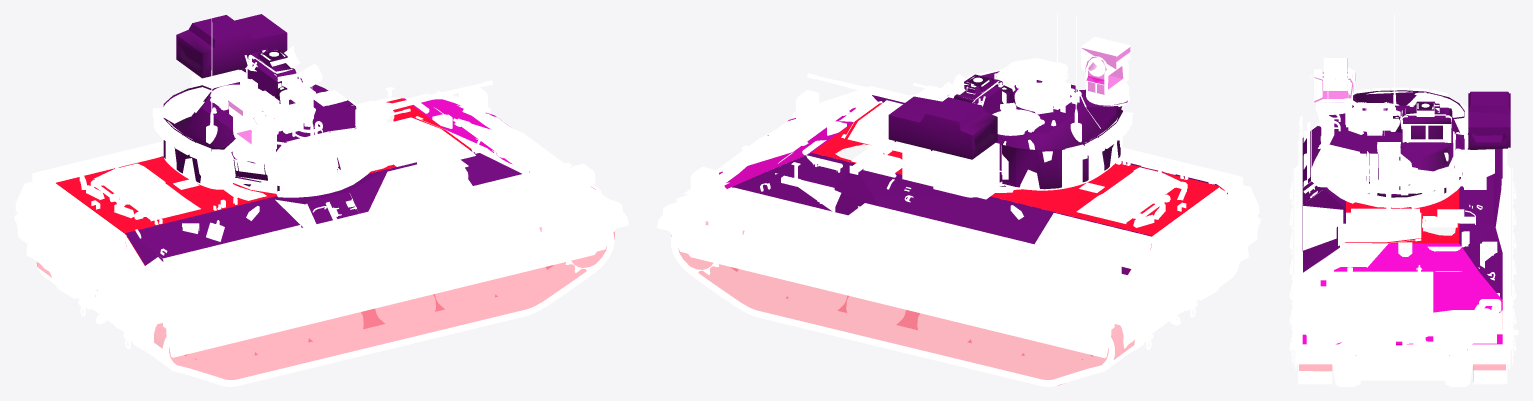
The picture shows the model from 3 angles, left to right: view 1: azimuth 30°, elevation 25°; view 2: azimuth 150°, elevation 25°; view 3: azimuth 270°, elevation 25°; orthographic projection. The views are drawn at different scales.
Visible parts, largest first — view 1: 44_1, 44_3, BFV_Righttrack_COL_100, BFV_turret_col_106, BFV_COL, 44_2, BFV_COL_2, 44_5, 44_4, BFV_COL_1; view 2: 44_1, BFV_Lefttrack_COL_97, 44_3, BFV_turret_col_106, BFV_COL, 44, BFV_COL_2, 44_5, BFV_COL_1, BFV_CmdrScope_Col_103, 44_4; view 3: 44_1, 44_3, BFV_turret_col_106, BFV_COL, BFV_COL_1, 44_5, 44_4, BFV_COL_2, 44, 44_2, BFV_CmdrScope_Col_103, BFV_Righttrack_COL_100 (+1 smaller).
Part boxes in pixels (left/top/right/bottom): 44_1: left=14, top=87, right=628, bottom=378; 44_3: left=152, top=16, right=397, bottom=193; BFV_Righttrack_COL_100: left=154, top=227, right=614, bottom=379; BFV_turret_col_106: left=163, top=14, right=356, bottom=191; BFV_COL: left=125, top=149, right=521, bottom=265; 44_2: left=142, top=230, right=614, bottom=386; BFV_COL_2: left=56, top=98, right=470, bottom=290; 44_5: left=228, top=90, right=279, bottom=163; 44_4: left=315, top=80, right=492, bottom=121; BFV_COL_1: left=403, top=98, right=594, bottom=188; 44_1: left=657, top=85, right=1260, bottom=378; BFV_Lefttrack_COL_97: left=671, top=221, right=1134, bottom=385; 44_3: left=898, top=14, right=1133, bottom=199; BFV_turret_col_106: left=888, top=71, right=1127, bottom=189; BFV_COL: left=732, top=95, right=1218, bottom=274; 44: left=671, top=224, right=1134, bottom=386; BFV_COL_2: left=812, top=103, right=1227, bottom=274; 44_5: left=1080, top=36, right=1130, bottom=106; BFV_COL_1: left=719, top=98, right=877, bottom=188; BFV_CmdrScope_Col_103: left=1082, top=47, right=1130, bottom=94; 44_4: left=807, top=73, right=956, bottom=102; 44_1: left=1289, top=104, right=1518, bottom=386; 44_3: left=1311, top=14, right=1494, bottom=208; BFV_turret_col_106: left=1329, top=90, right=1510, bottom=197; BFV_COL: left=1302, top=126, right=1502, bottom=299; BFV_COL_1: left=1302, top=243, right=1502, bottom=355; 44_5: left=1310, top=58, right=1354, bottom=114; 44_4: left=1366, top=143, right=1400, bottom=234; BFV_COL_2: left=1346, top=188, right=1459, bottom=243; 44: left=1473, top=301, right=1507, bottom=384; 44_2: left=1298, top=364, right=1332, bottom=384; BFV_CmdrScope_Col_103: left=1314, top=58, right=1355, bottom=102; BFV_Righttrack_COL_100: left=1299, top=364, right=1331, bottom=370.
Size of the model in its own units: 7.38 by 4.53 by 3.59.
